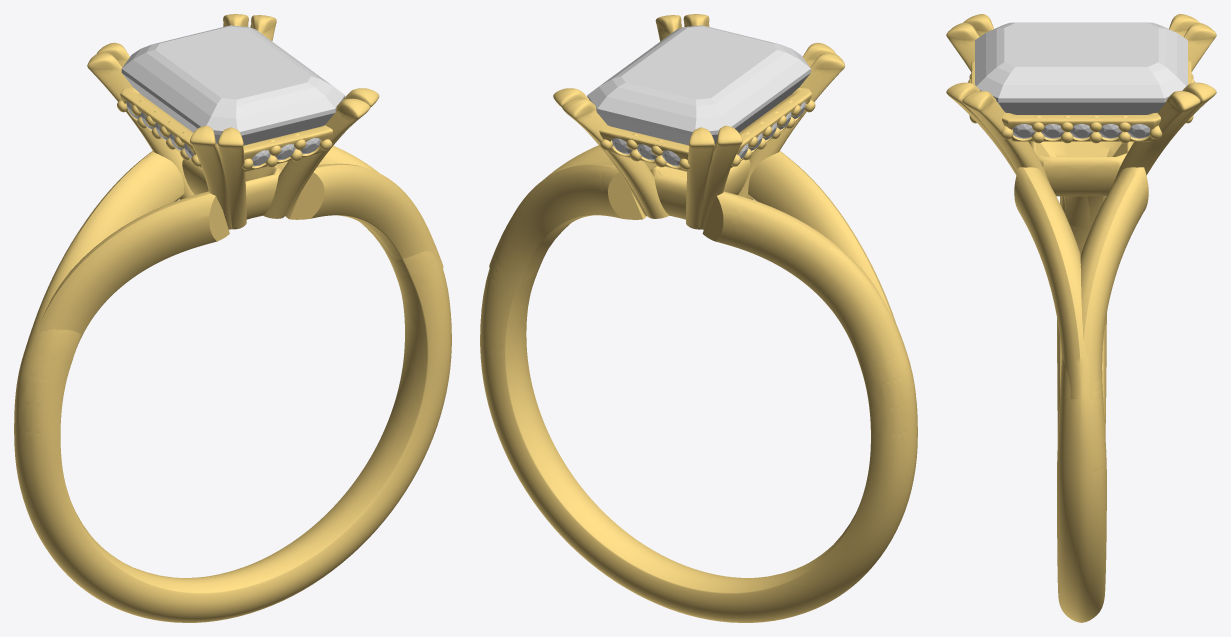
Rendered from CamSplit2YG_blender.glb.
The picture shows the model from 3 angles, left to right: view 1: azimuth 30°, elevation 25°; view 2: azimuth 150°, elevation 25°; view 3: azimuth 270°, elevation 25°; orthographic projection.
Visible parts, largest first — view 1: V4 Cam split band YG for 3d model, V4 Cam split band dia for 3d model.016; view 2: V4 Cam split band YG for 3d model, V4 Cam split band dia for 3d model.016; view 3: V4 Cam split band YG for 3d model, V4 Cam split band dia for 3d model.016.
Boxes of the visible parts, x1,y1,x2,y2 form: V4 Cam split band YG for 3d model: [14, 14, 451, 622]; V4 Cam split band dia for 3d model.016: [121, 25, 344, 145]; V4 Cam split band YG for 3d model: [480, 14, 917, 622]; V4 Cam split band dia for 3d model.016: [587, 25, 810, 145]; V4 Cam split band YG for 3d model: [946, 14, 1216, 622]; V4 Cam split band dia for 3d model.016: [975, 22, 1187, 114].
Bounding box in the file's own units: 20.01 × 24.44 × 10.8.
